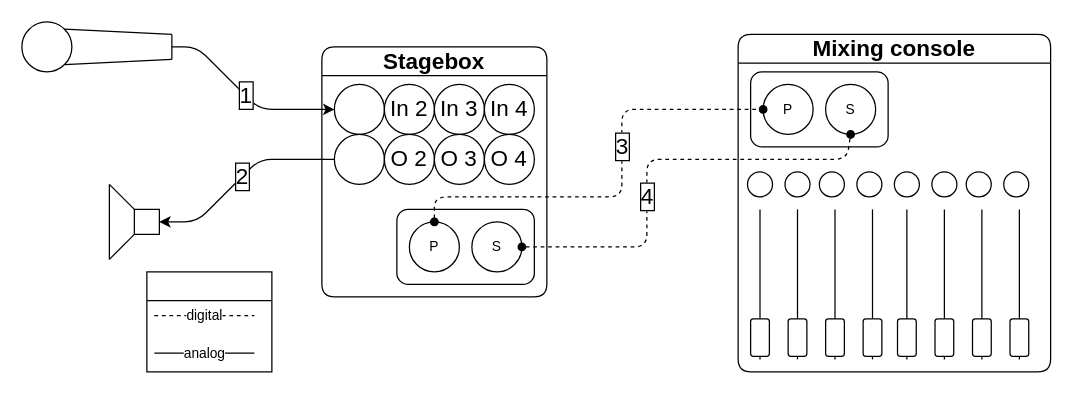
This 1073x394 diagram has some shape labels left out. Each missing label, with the centre of its shape:
In 1: pixel 358 108
Legend: pixel 209 321
O 1: pixel 358 158
